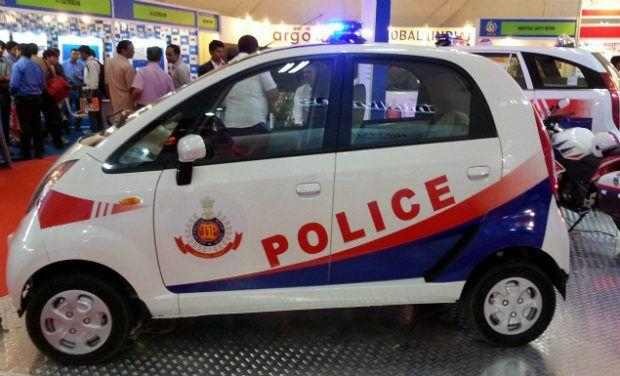Emergency-Vehicles: (13, 49, 589, 369)
